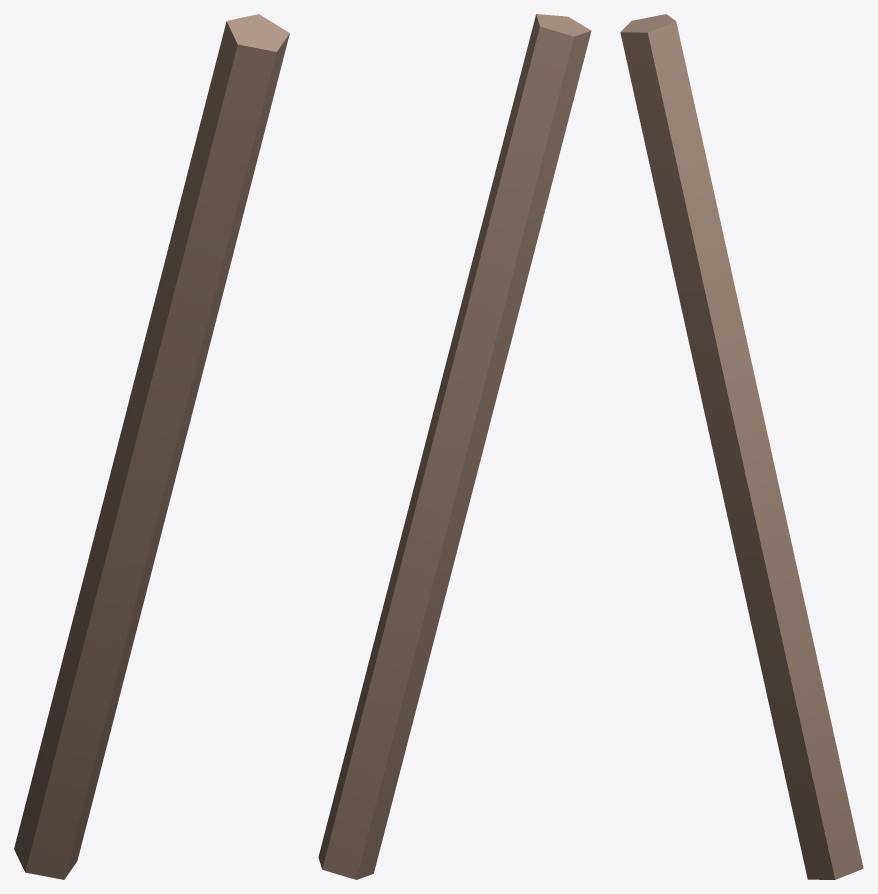
File: K_GOMI10.glb
3 views of the same model, side by side, from view 1: azimuth 90°, elevation 25°; view 2: azimuth 150°, elevation 25°; view 3: azimuth 270°, elevation 25° (orthographic). The views are drawn at different scales.
Visible parts, largest first — view 1: FRAME_ROOT; view 2: FRAME_ROOT; view 3: FRAME_ROOT.
Part boxes in pixels (bbox=[...]): FRAME_ROOT: bbox=[14, 14, 289, 879]; FRAME_ROOT: bbox=[318, 14, 591, 879]; FRAME_ROOT: bbox=[620, 14, 863, 879].
Size of the model in its own units: 0.923 by 4.24 by 1.17.
1 material, 1 textured.
